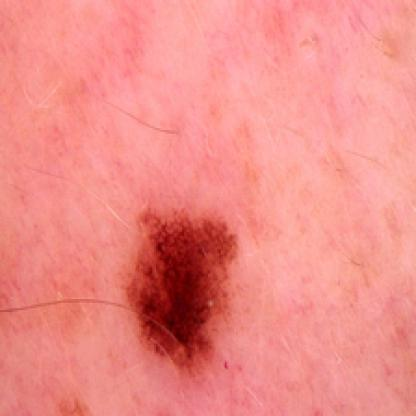benign: (132, 210, 256, 364)
